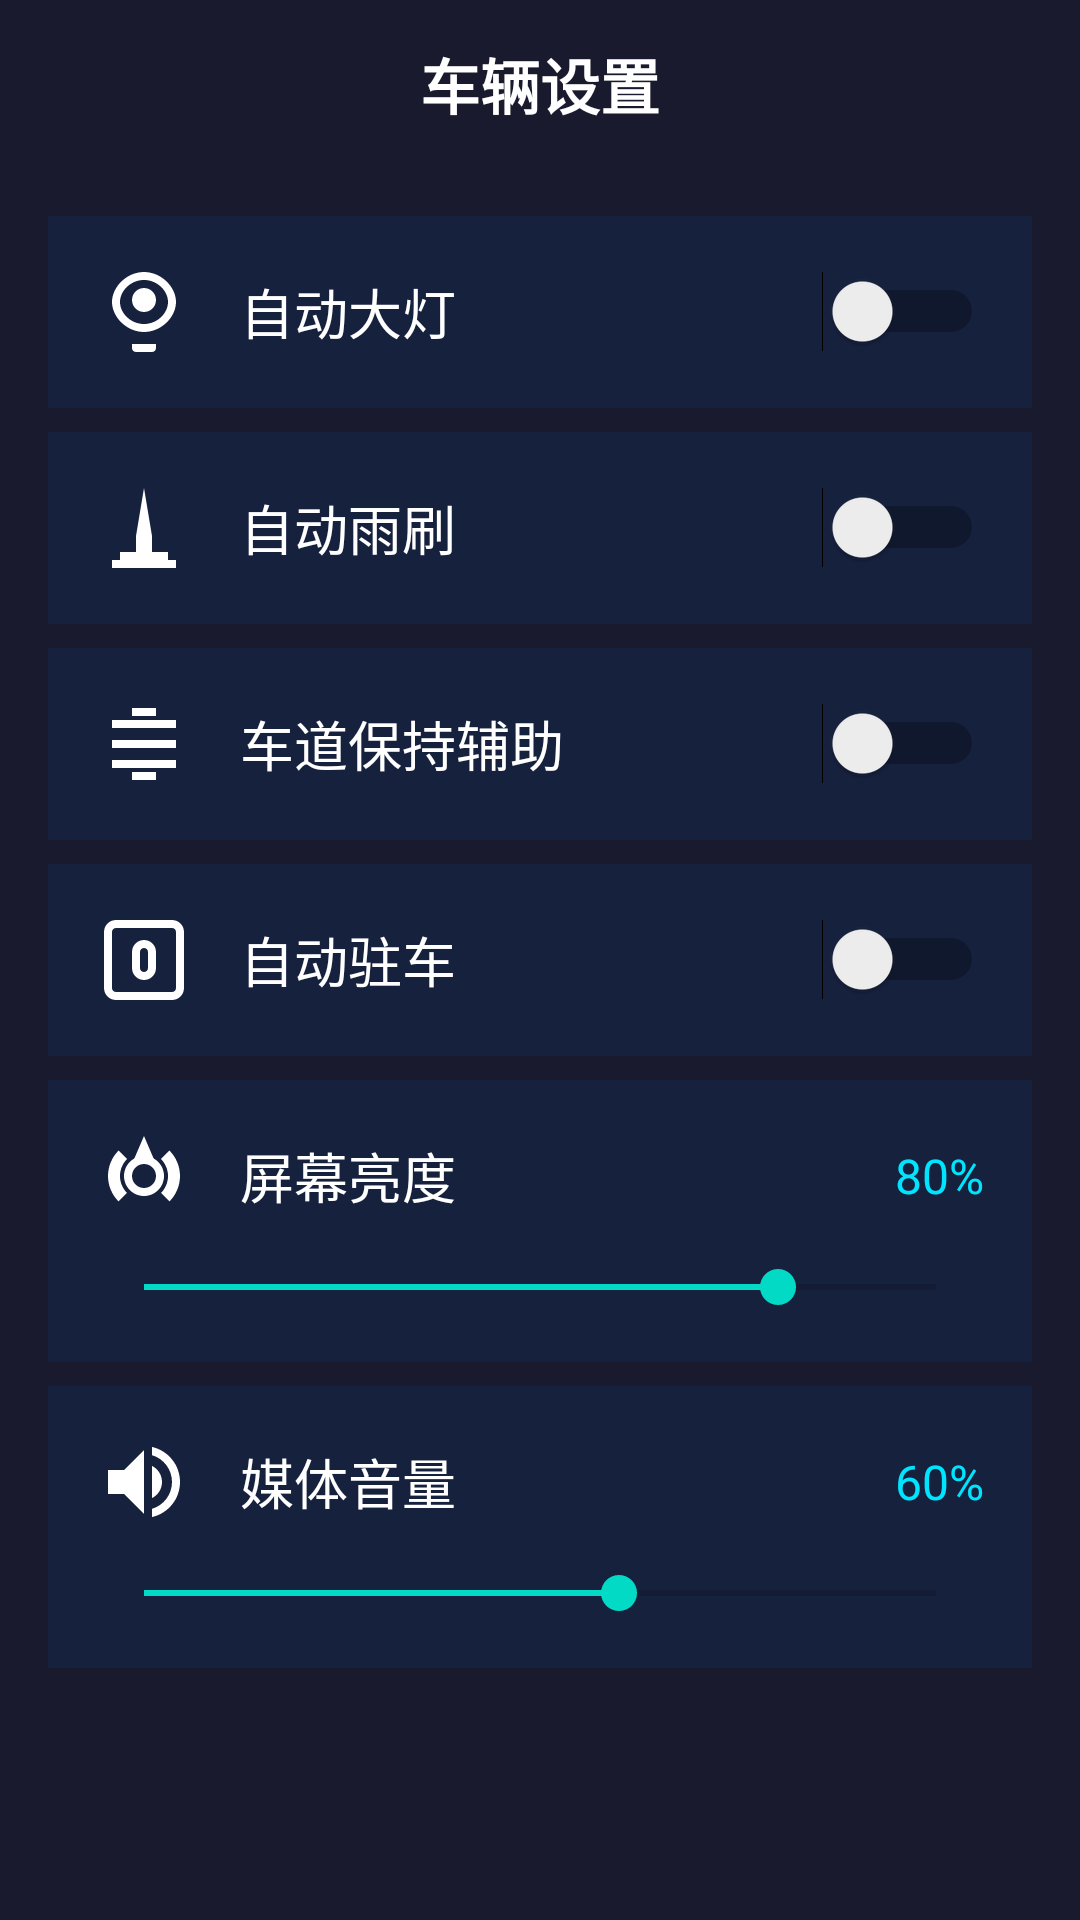

Where icons sit on this 1080w x 1920h app screen, as (x1, y1, x2, y2):
lane: (112, 708, 176, 780)
volume: (108, 1447, 180, 1517)
